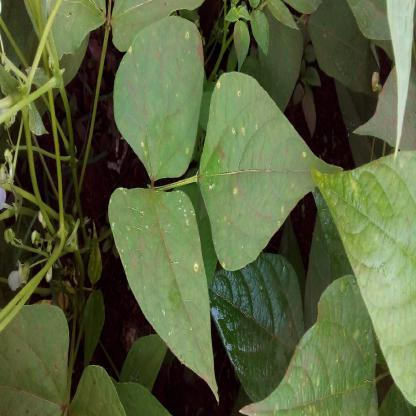Beans_Rust: (198, 78, 346, 272), (104, 189, 222, 400), (238, 271, 377, 416), (112, 21, 206, 182)
